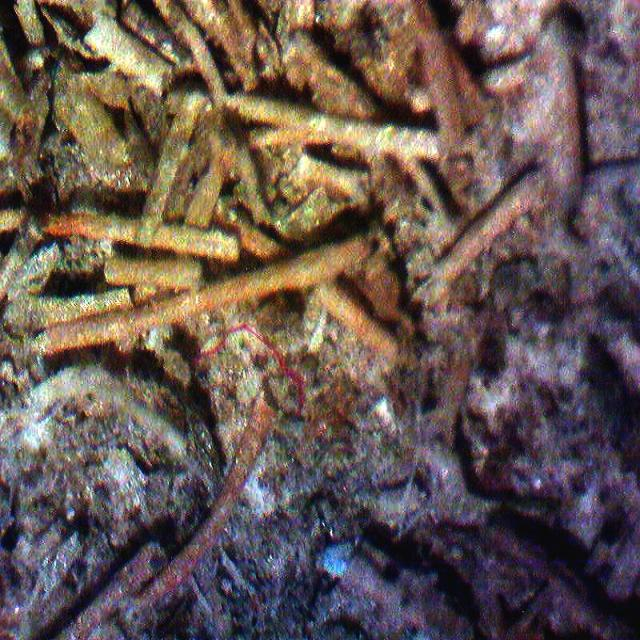microplastic: (193, 322, 306, 415)
